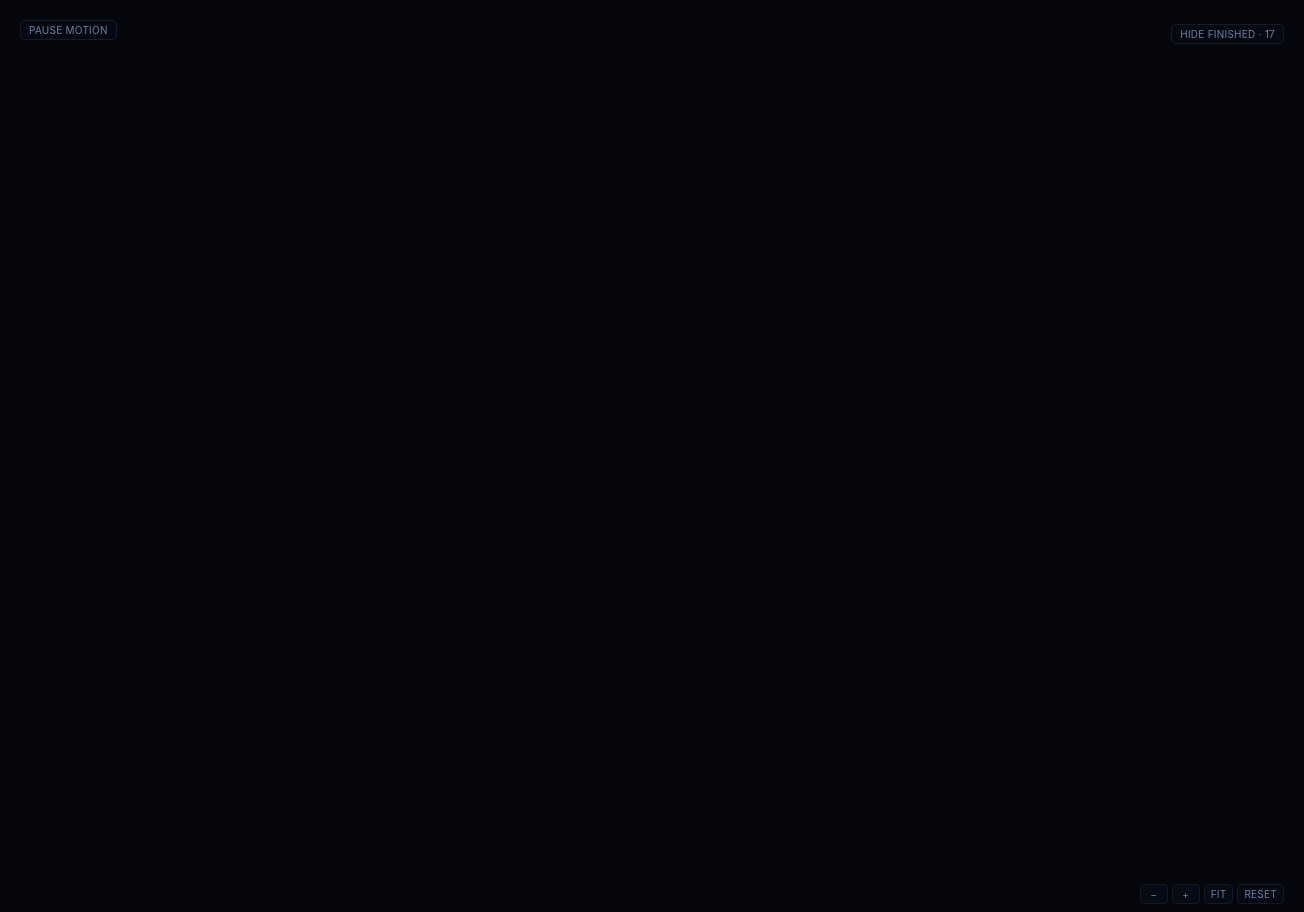
Test: the return, and the network it leaves standing (prd10 rulings 13–16) › hides the finished lanes from the canvas, and says it is doing it
Click the button with test id "scene-hide-finished" at (1228, 34), box [1171,24,1284,44]
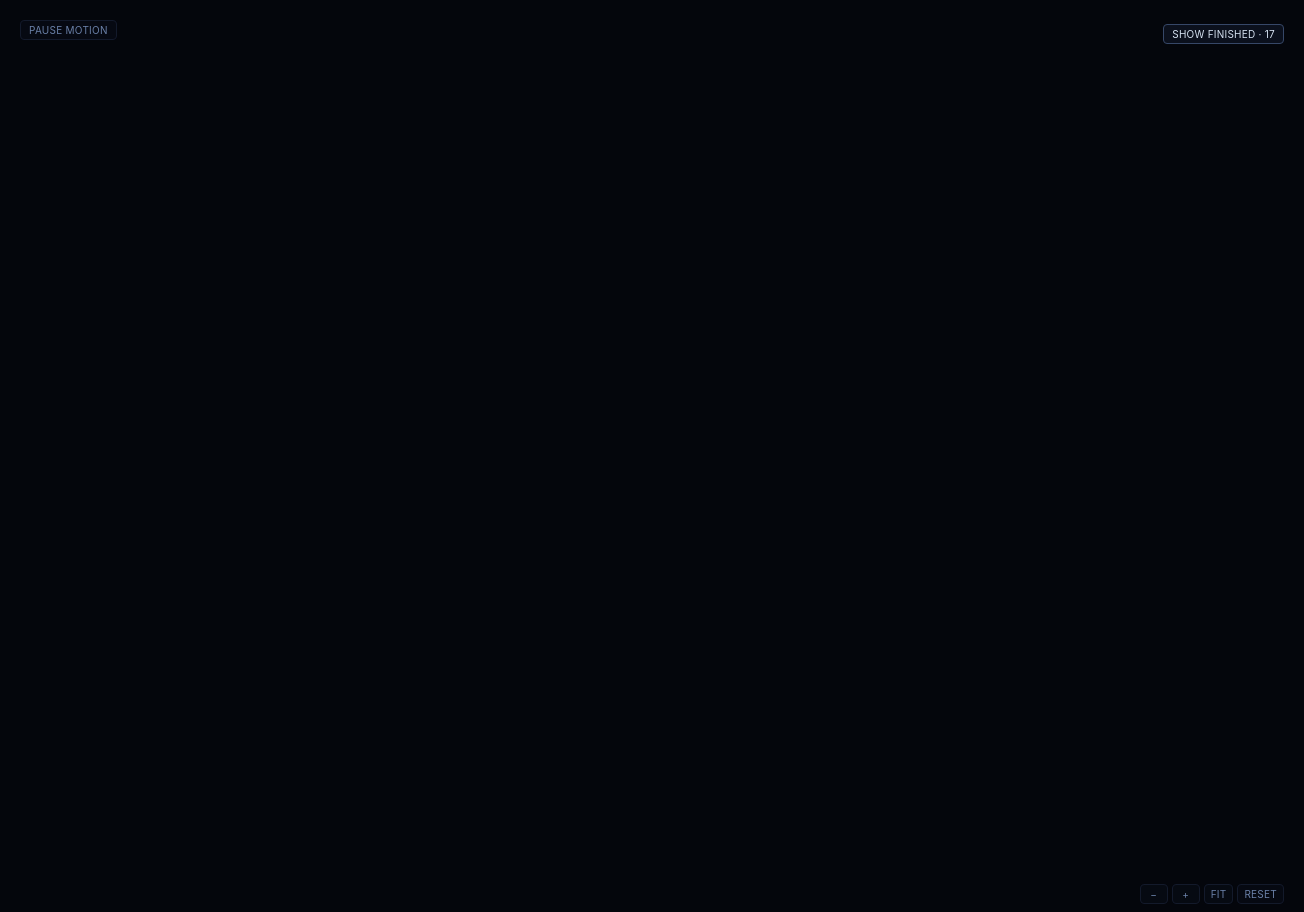
expect the button with test id "scene-hide-finished" shows "Show finished": met, box [1163,24,1284,44]
